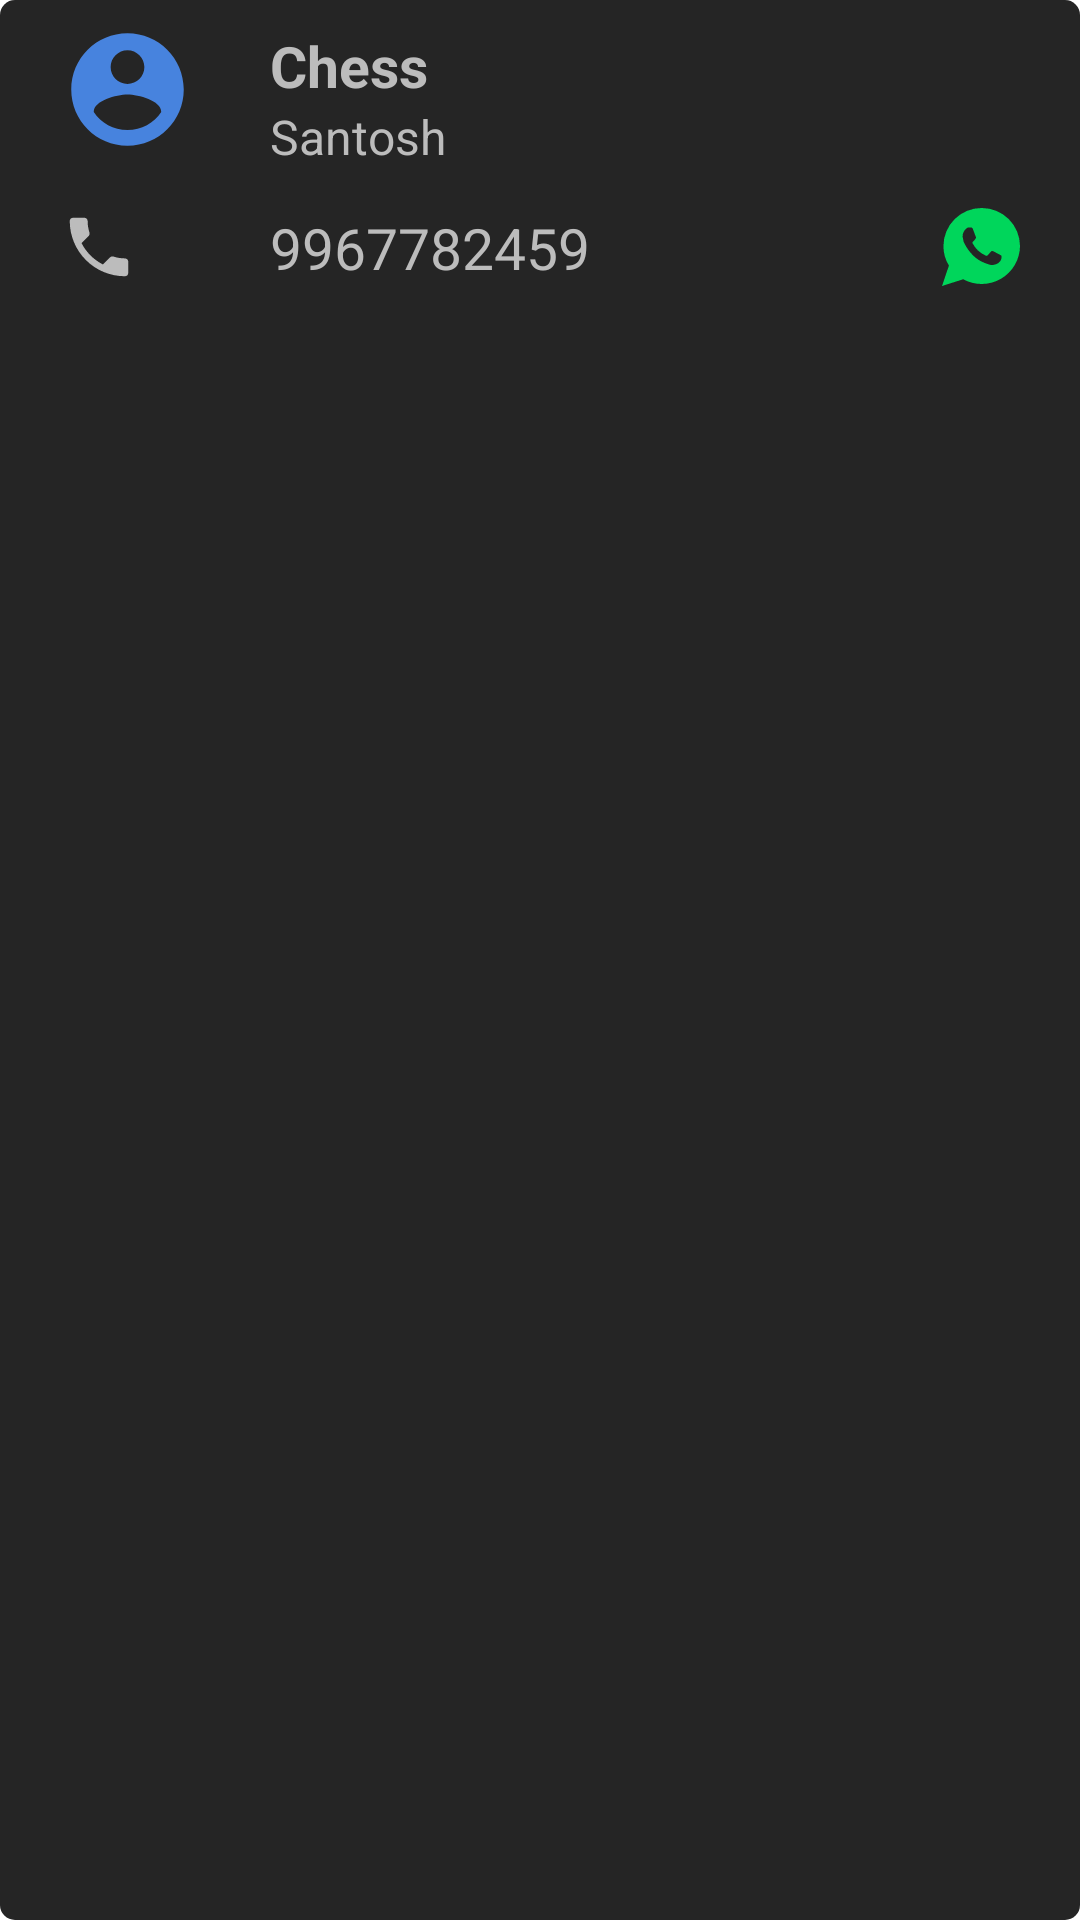

Named icons in this screenshot (1080px x 1920px) and their centers, [x,y]:
contact: [127,89]
